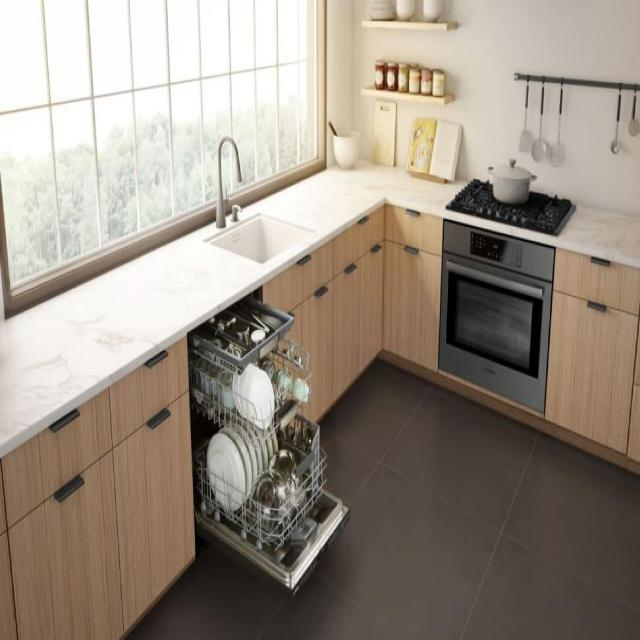dishwasher: (178, 278, 310, 640)
